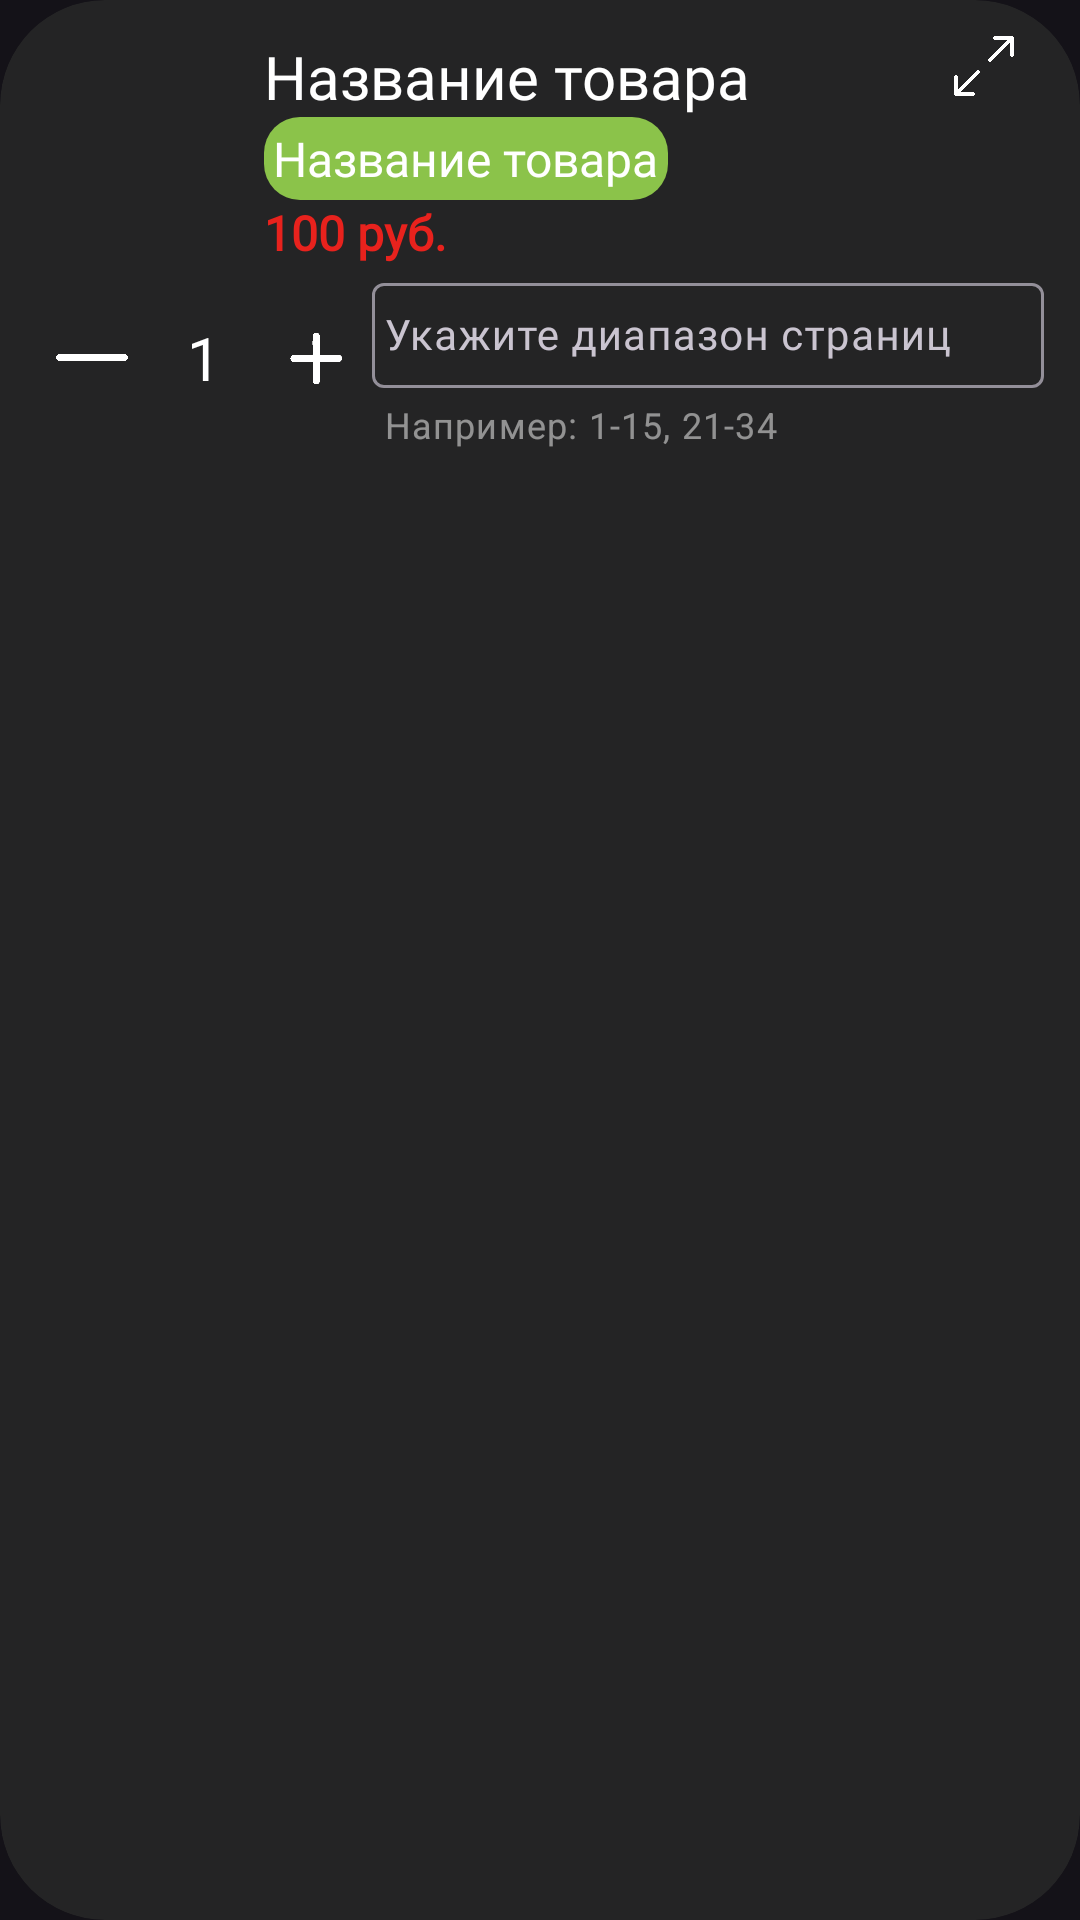

Screen size 1080px×1920px. Icon name, then its box in pixels as (x1, y1, x2, y2):
plus: (290, 333, 342, 384)
